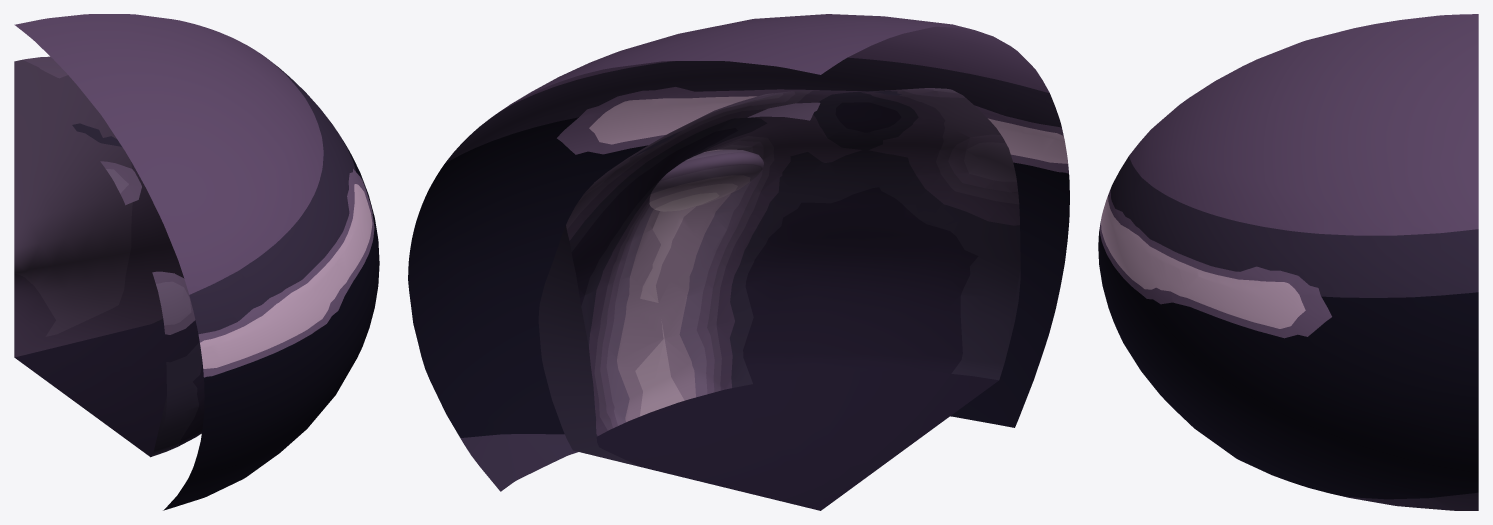
File: glass_globe_br_208.glb
3 views of the same model, side by side, from view 1: azimuth 30°, elevation 25°; view 2: azimuth 150°, elevation 25°; view 3: azimuth 270°, elevation 25° (orthographic). The views are drawn at different scales.
Visible parts, largest first — view 1: glass_globe_br; view 2: glass_globe_br; view 3: glass_globe_br.
Boxes of the visible parts, left/top/right/bottom form: glass_globe_br: left=14, top=14, right=379, bottom=510; glass_globe_br: left=408, top=14, right=1069, bottom=510; glass_globe_br: left=1098, top=14, right=1478, bottom=510.
Size of the model in its own units: 21.88 by 25.07 by 22.88.
